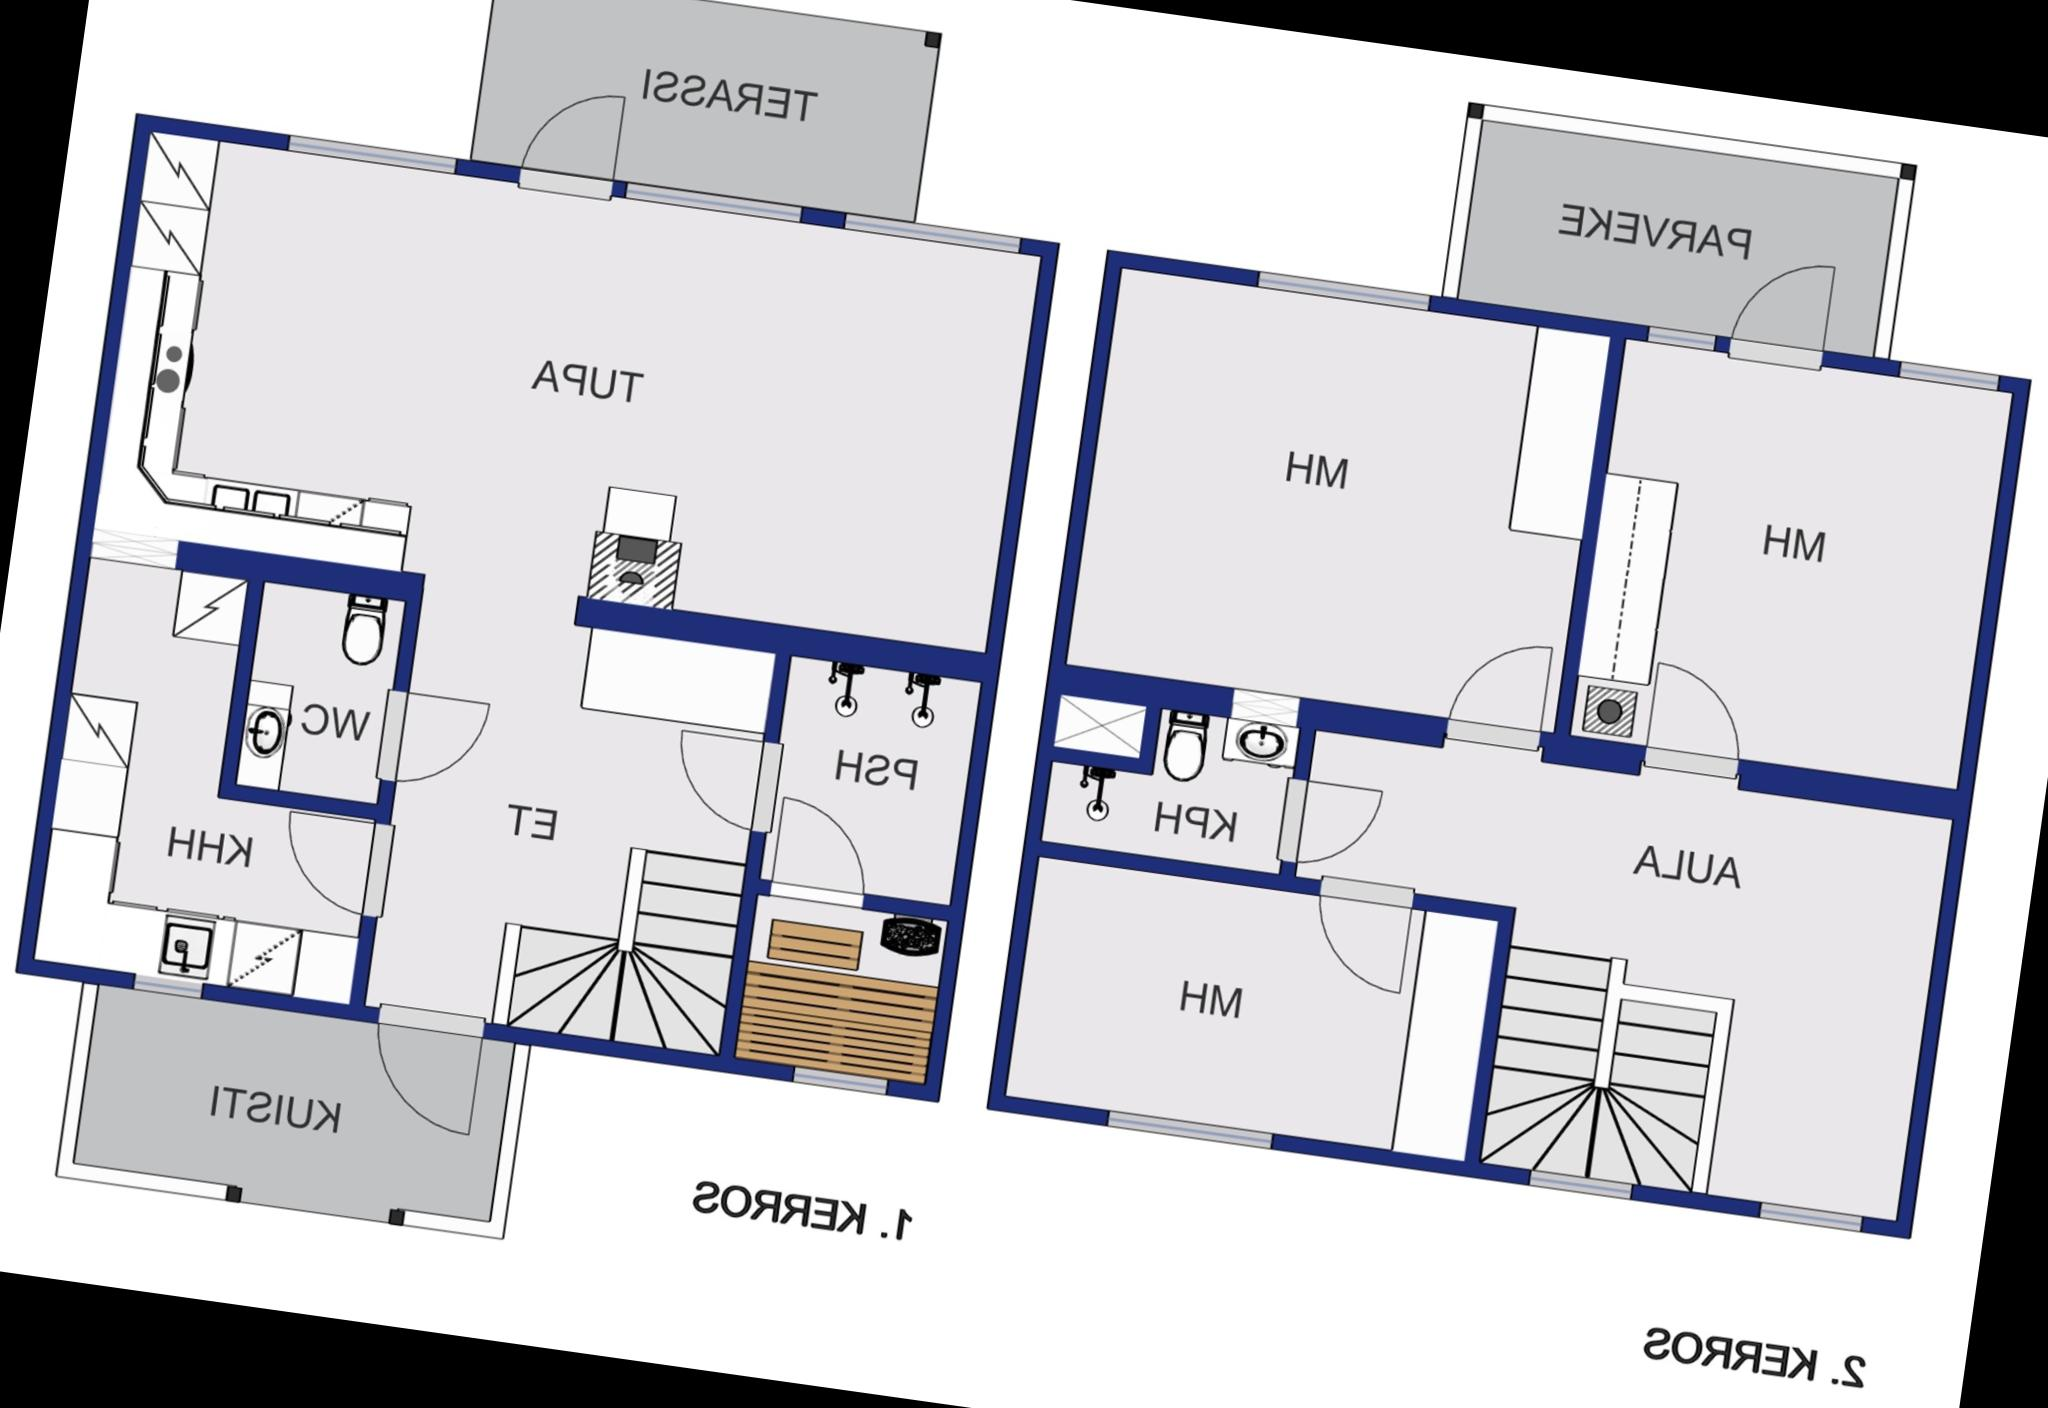door: (358, 1000, 492, 1142), (269, 806, 408, 929), (1710, 246, 1843, 373), (1637, 657, 1763, 789), (1432, 633, 1561, 761), (665, 723, 797, 843), (507, 76, 629, 205), (1304, 868, 1424, 997), (763, 790, 879, 913), (370, 685, 493, 795), (1275, 773, 1385, 879)
window: (1089, 1097, 1289, 1164), (610, 173, 812, 232), (831, 204, 1029, 263), (1243, 260, 1444, 316), (274, 126, 467, 184), (1738, 1192, 1880, 1245), (781, 1058, 906, 1109), (1516, 1164, 1643, 1214), (1885, 356, 2012, 400), (1632, 317, 1727, 370), (118, 965, 216, 1011)
